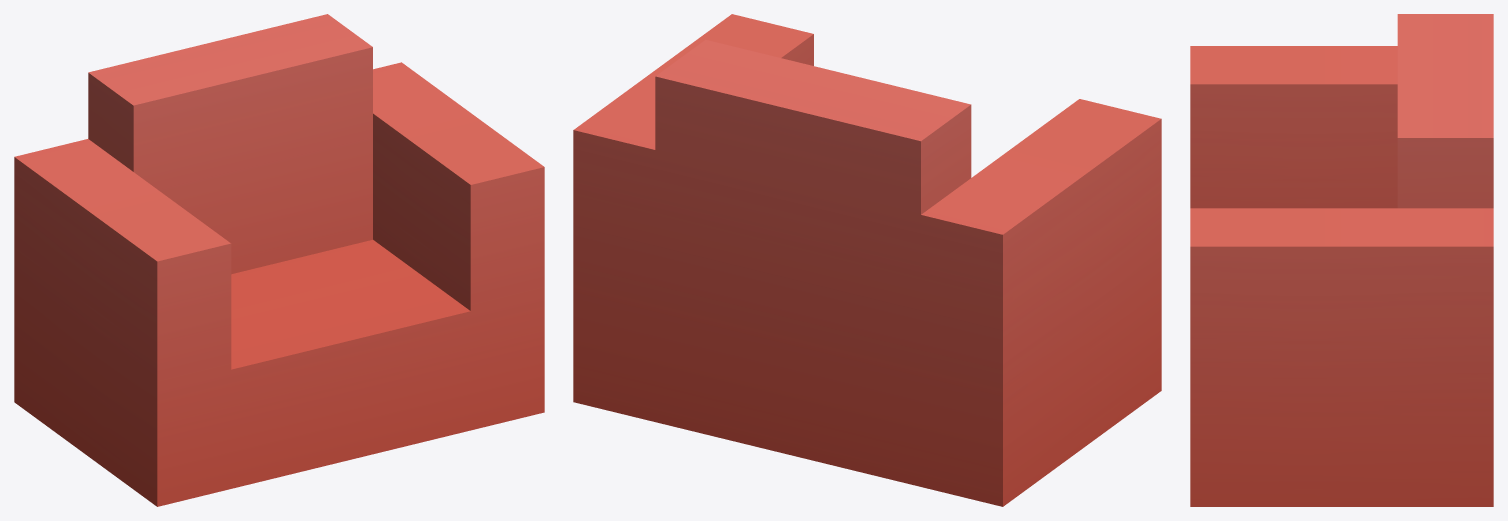
File: Couch_cherry.fbx
3 renders of one model, left to right at view 1: azimuth 30°, elevation 25°; view 2: azimuth 150°, elevation 25°; view 3: azimuth 270°, elevation 25°, orthographic. The views are drawn at different scales.
Parts seen in each view (by area): view 1: Couch.cherry; view 2: Couch.cherry; view 3: Couch.cherry.
Boxes of the visible parts, box(x1,y1,x2,y2) form: Couch.cherry: box(14, 14, 544, 506); Couch.cherry: box(573, 14, 1161, 506); Couch.cherry: box(1190, 14, 1493, 506).
Size of the model in its own units: 125 by 96.22 by 79.99.
